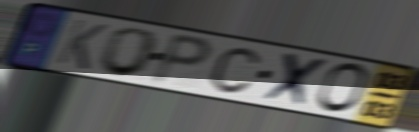C: (208, 46, 261, 96)
K: (52, 17, 110, 72)
O: (96, 25, 163, 80), (314, 61, 371, 116)
P: (147, 30, 215, 87)
X: (258, 50, 332, 111)
